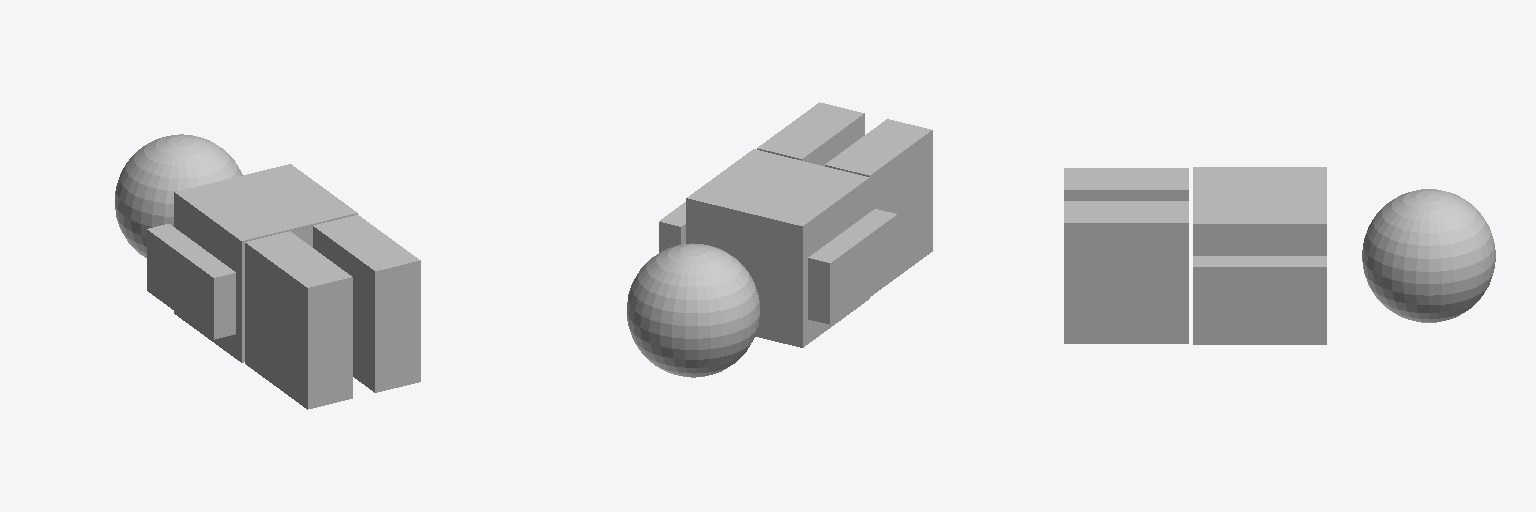
Rendered from sporty_robot_animation_000011.obj.
3 renders of one model, left to right at view 1: azimuth 30°, elevation 25°; view 2: azimuth 150°, elevation 25°; view 3: azimuth 270°, elevation 25°, orthographic.
Parts seen in each view (by area): view 1: Cube.002, Cube.001_Cube.005, Cube, Sphere.001, Cube.004; view 2: Cube, Sphere.001, Cube.002, Cube.004, Cube.001_Cube.005, Cube.003; view 3: Cube.001_Cube.005, Cube, Sphere.001, Cube.003, Cube.002.
Part boxes in pixels (x1,y1,x2,y2): Cube.002: (245, 231, 352, 409); Cube.001_Cube.005: (313, 215, 420, 392); Cube: (174, 164, 357, 362); Sphere.001: (115, 134, 242, 257); Cube.004: (147, 224, 235, 339); Cube: (686, 149, 869, 347); Sphere.001: (627, 243, 759, 377); Cube.002: (825, 119, 932, 296); Cube.004: (808, 209, 897, 324); Cube.001_Cube.005: (757, 102, 864, 165); Cube.003: (659, 202, 685, 252); Cube.001_Cube.005: (1064, 201, 1188, 343); Cube: (1193, 167, 1326, 344); Sphere.001: (1362, 189, 1495, 322); Cube.003: (1193, 256, 1326, 328); Cube.002: (1064, 168, 1188, 200).
Bounding box in the file's own units: 0.76 × 0.514 × 1.65.